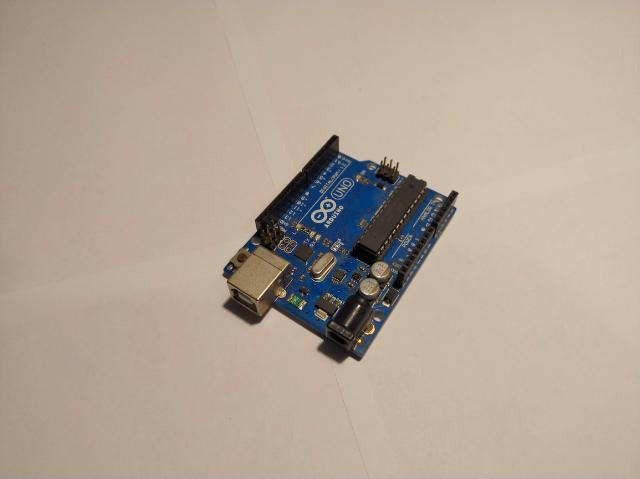arduino: (223, 134, 459, 358)
